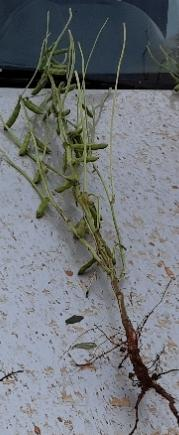soja: (69, 137, 114, 151), (100, 237, 120, 264), (72, 258, 100, 277), (71, 156, 103, 172), (31, 200, 53, 223), (31, 75, 55, 95), (4, 106, 23, 131), (88, 200, 106, 226), (22, 99, 46, 117), (77, 100, 101, 117), (16, 134, 33, 156), (34, 138, 55, 155), (32, 169, 51, 186), (41, 103, 56, 124), (53, 181, 77, 194), (48, 47, 70, 61), (72, 218, 87, 238), (45, 62, 71, 73), (67, 124, 87, 138), (44, 69, 68, 80), (57, 85, 82, 95), (60, 152, 70, 175), (56, 111, 73, 120)
